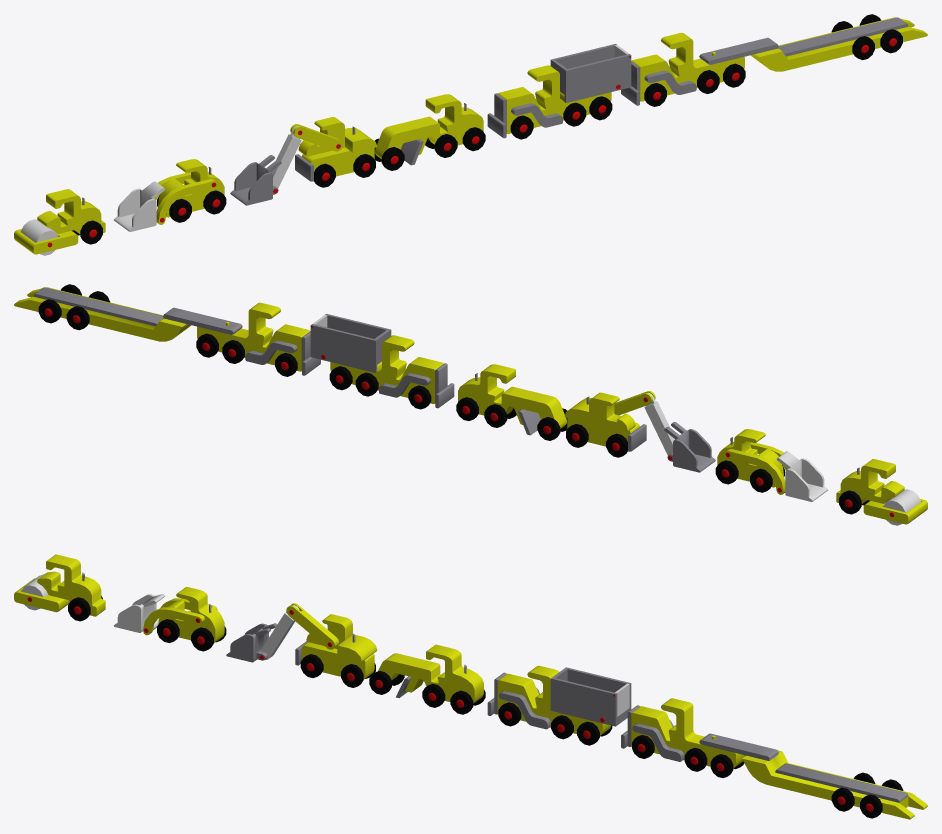
File: ConstructionToys.fbx
3 views of the same model, one above another, from view 1: azimuth 30°, elevation 25°; view 2: azimuth 150°, elevation 25°; view 3: azimuth 330°, elevation 25° (orthographic).
Parts seen in each view (by area): view 1: Tractor_Trailer, Tractor, DumpTruck, RoadScraper, DumpTruck_Bed, PowerShovel, Roller, Bobcat_Bucket, PowerShovel_Bucket, Bobcat, Bobcat_Arm, Roller_Front (+5 smaller); view 2: Tractor_Trailer, Tractor, DumpTruck, RoadScraper, DumpTruck_Bed, PowerShovel, Roller, PowerShovel_Bucket, Bobcat_Bucket, Bobcat, Bobcat_Arm, Roller_Front (+6 smaller); view 3: Tractor_Trailer, Tractor, DumpTruck_Bed, RoadScraper, DumpTruck, PowerShovel, Roller, Bobcat, PowerShovel_Bucket, Bobcat_Bucket, Bobcat_Arm, PowerShovel_Arm1 (+4 smaller).
Part boxes in pixels (x1,y1,x2,y2): Tractor_Trailer: (699,17,927,71); Tractor: (621,32,744,105); DumpTruck: (487,65,611,138); RoadScraper: (375,94,483,165); DumpTruck_Bed: (550,44,631,102); PowerShovel: (295,117,376,181); Roller: (37,189,105,233); Bobcat_Bucket: (114,181,165,231); PowerShovel_Bucket: (230,155,281,205); Bobcat: (157,159,224,217); Bobcat_Arm: (154,172,217,224); Roller_Front: (14,229,78,254); Tractor_Trailer: (14,287,242,341); Tractor: (197,302,320,375); DumpTruck: (330,335,454,408); RoadScraper: (458,364,566,435); DumpTruck_Bed: (310,313,391,372); PowerShovel: (564,392,646,451); Roller: (836,459,904,503); PowerShovel_Bucket: (664,422,715,472); Bobcat_Bucket: (776,451,827,501); Bobcat: (717,429,784,487); Bobcat_Arm: (724,442,787,494); Roller_Front: (863,499,927,524); Tractor_Trailer: (699,733,927,819); Tractor: (621,698,744,768); DumpTruck_Bed: (550,667,631,726); RoadScraper: (378,644,483,703); DumpTruck: (487,665,610,735); PowerShovel: (295,614,377,679); Roller: (37,554,105,616); Bobcat: (158,587,224,642); PowerShovel_Bucket: (226,623,277,662); Bobcat_Bucket: (114,594,165,632); Bobcat_Arm: (143,598,217,635); PowerShovel_Arm1: (286,603,338,649).
Bounding box in the file's own units: 118 × 7.92 × 5.54.
